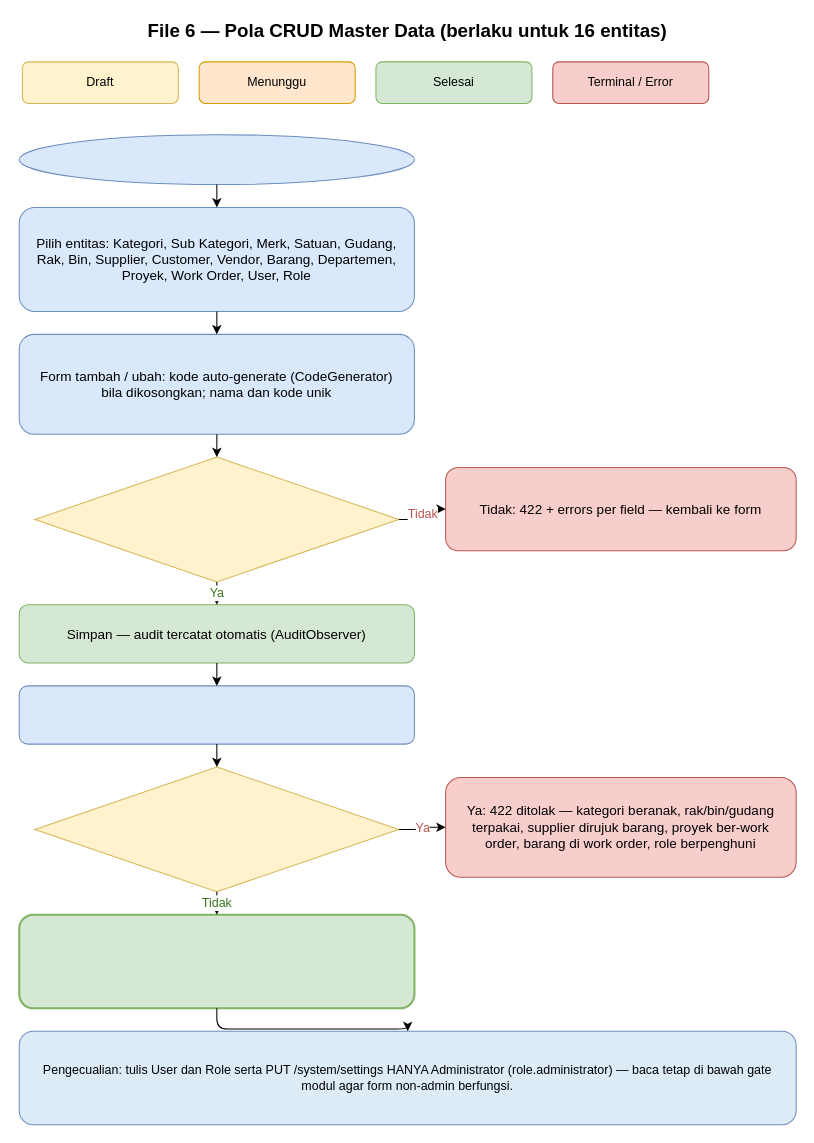
Some shapes in this 814 by 1143 pixel diagram are drawn without their labels. Each missing label, with the box of its shape:
Data masih dirujuk entitas lain?: (34, 766, 399, 892)
Pengguna membuka menu Master Data: (18, 134, 414, 185)
SELESAI — hapus + audit (atau nonaktifkan is_active untuk offboarding user): (18, 913, 415, 1009)
Tombol hapus (butuh level Kelola): (18, 685, 414, 744)
Validasi FormRequest lolos? (unik, relasi FK, format NIB/NPWP): (34, 456, 399, 582)
